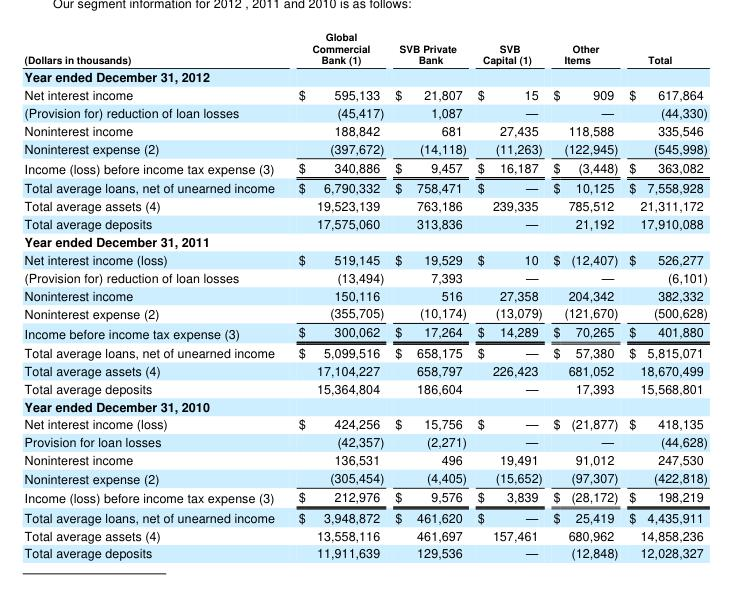table: (23, 29, 706, 561)
table column: (23, 29, 285, 561), (285, 29, 388, 561), (622, 29, 706, 561), (388, 29, 471, 561), (471, 29, 547, 561), (547, 29, 622, 561)
table column header: (23, 29, 706, 66)
table projected row header: (23, 66, 706, 85), (23, 232, 706, 250), (23, 396, 706, 414)
table row: (23, 29, 706, 66), (23, 486, 706, 507), (23, 157, 706, 177), (23, 322, 706, 342), (23, 66, 706, 85), (23, 138, 706, 157), (23, 177, 706, 196), (23, 303, 706, 322), (23, 342, 706, 361), (23, 85, 706, 103), (23, 103, 706, 121), (23, 196, 706, 214), (23, 214, 706, 232), (23, 232, 706, 250), (23, 267, 706, 285), (23, 285, 706, 303), (23, 378, 706, 396), (23, 396, 706, 414), (23, 414, 706, 432), (23, 432, 706, 450), (23, 450, 706, 468), (23, 468, 706, 486), (23, 507, 706, 525), (23, 525, 706, 543), (23, 543, 706, 561), (23, 121, 706, 138), (23, 250, 706, 267), (23, 361, 706, 378)
